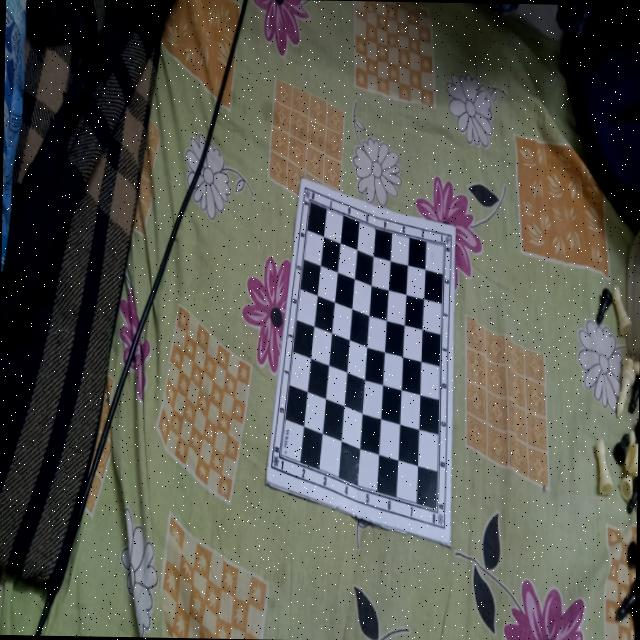corners: (450, 218, 460, 238), (444, 532, 454, 552), (262, 472, 270, 487), (298, 174, 306, 187)
